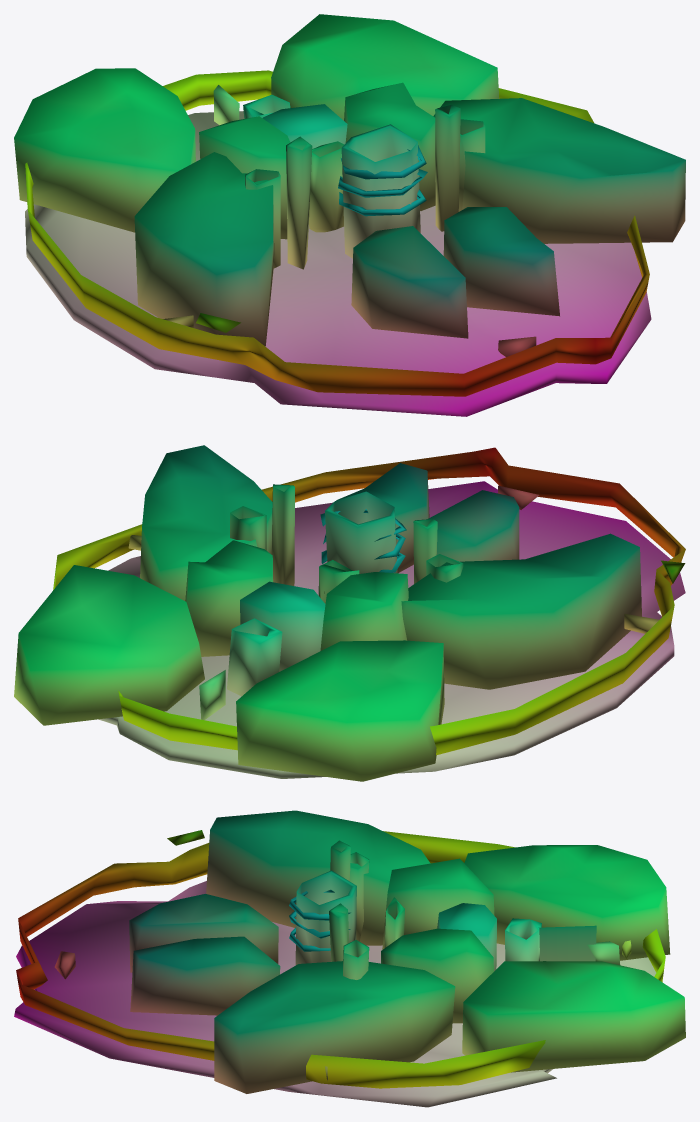
The model's file is neck_rifle_0_LOD1.glb.
3 renders of one model, top to bottom at view 1: azimuth 30°, elevation 25°; view 2: azimuth 150°, elevation 25°; view 3: azimuth 270°, elevation 25°, orthographic. The views are drawn at different scales.
Visible parts, largest first — view 1: neck_rifle_0_LOD1; view 2: neck_rifle_0_LOD1; view 3: neck_rifle_0_LOD1.
Part boxes in pixels (x1,y1,x2,y2): neck_rifle_0_LOD1: [14, 14, 685, 416]; neck_rifle_0_LOD1: [14, 445, 685, 781]; neck_rifle_0_LOD1: [14, 810, 685, 1107].
Bounding box in the file's own units: 0.1556 × 0.0368 × 0.1875.
